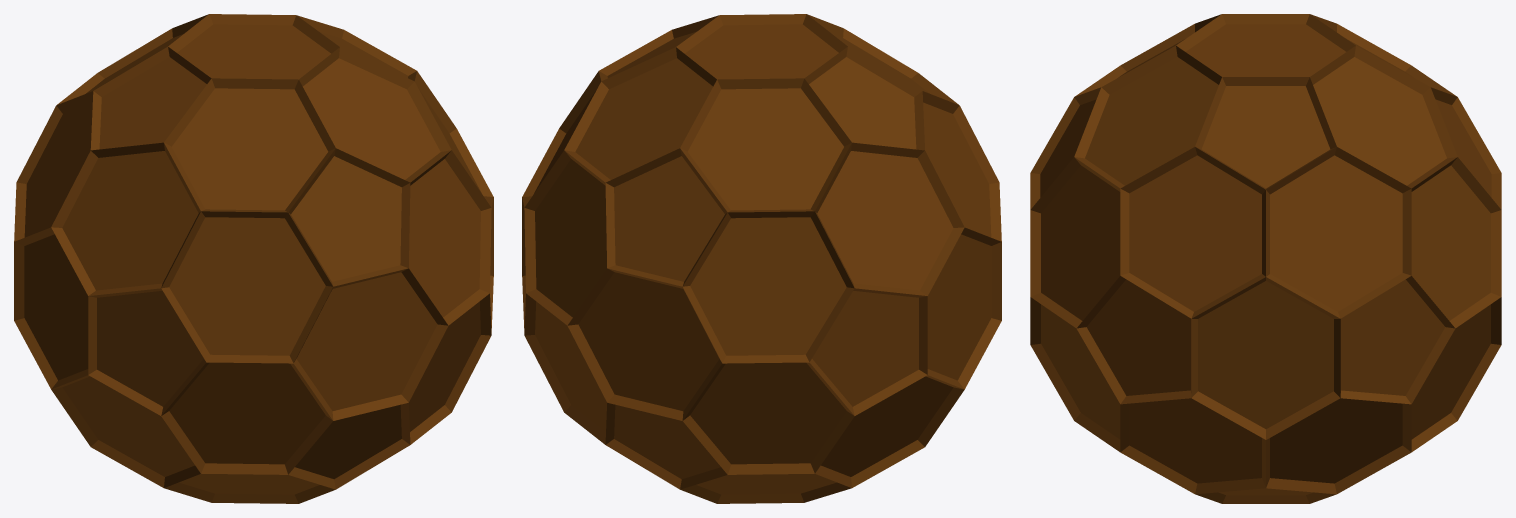
The model's file is Planette_vide.fbx.
3 renders of one model, left to right at view 1: azimuth 30°, elevation 25°; view 2: azimuth 150°, elevation 25°; view 3: azimuth 270°, elevation 25°, orthographic.
Parts seen in each view (by area): view 1: Chamfered dodecahedronv3; view 2: Chamfered dodecahedronv3; view 3: Chamfered dodecahedronv3.
Part boxes in pixels (bbox=[...]): Chamfered dodecahedronv3: bbox=[14, 14, 493, 503]; Chamfered dodecahedronv3: bbox=[522, 14, 1001, 503]; Chamfered dodecahedronv3: bbox=[1030, 14, 1501, 503].
Bounding box in the file's own units: 10000 × 10000 × 10000.
